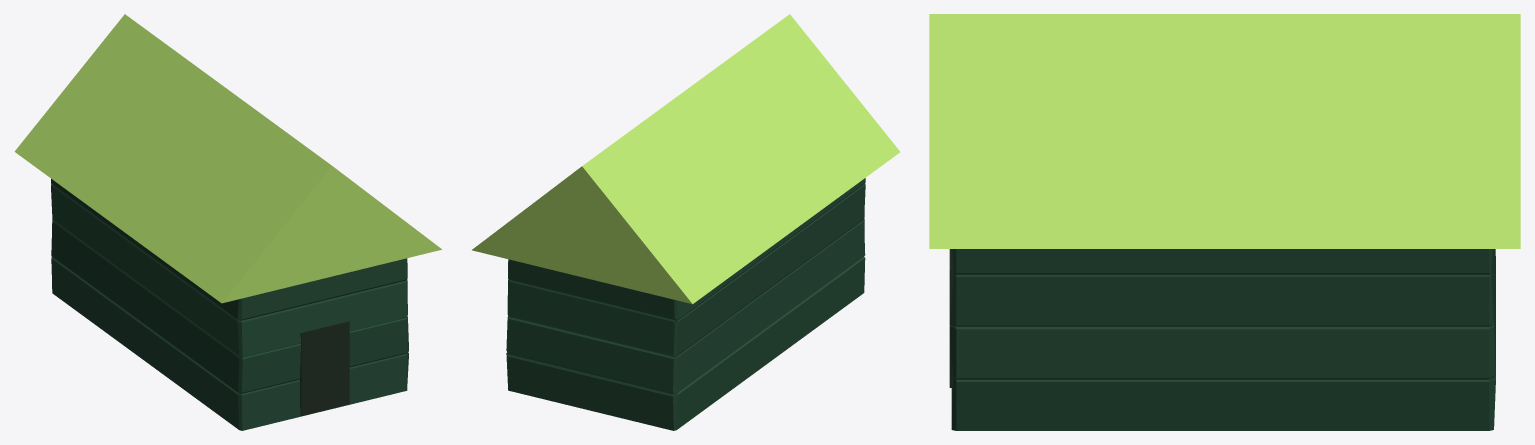
Rendered from home_proto_04.fbx.
3 renders of one model, left to right at view 1: azimuth 30°, elevation 25°; view 2: azimuth 150°, elevation 25°; view 3: azimuth 270°, elevation 25°, orthographic. The views are drawn at different scales.
Parts seen in each view (by area): view 1: home; view 2: home; view 3: home.
Boxes of the visible parts, <box> form: home: <box>14,14,441,430</box>; home: <box>472,14,900,430</box>; home: <box>929,14,1520,430</box>.
Bounding box in the file's own units: 1005 × 1092 × 1635.
